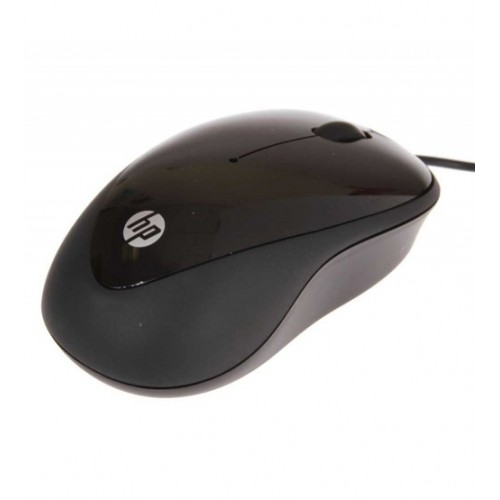hp-mouse-X1000: (36, 105, 480, 398)
